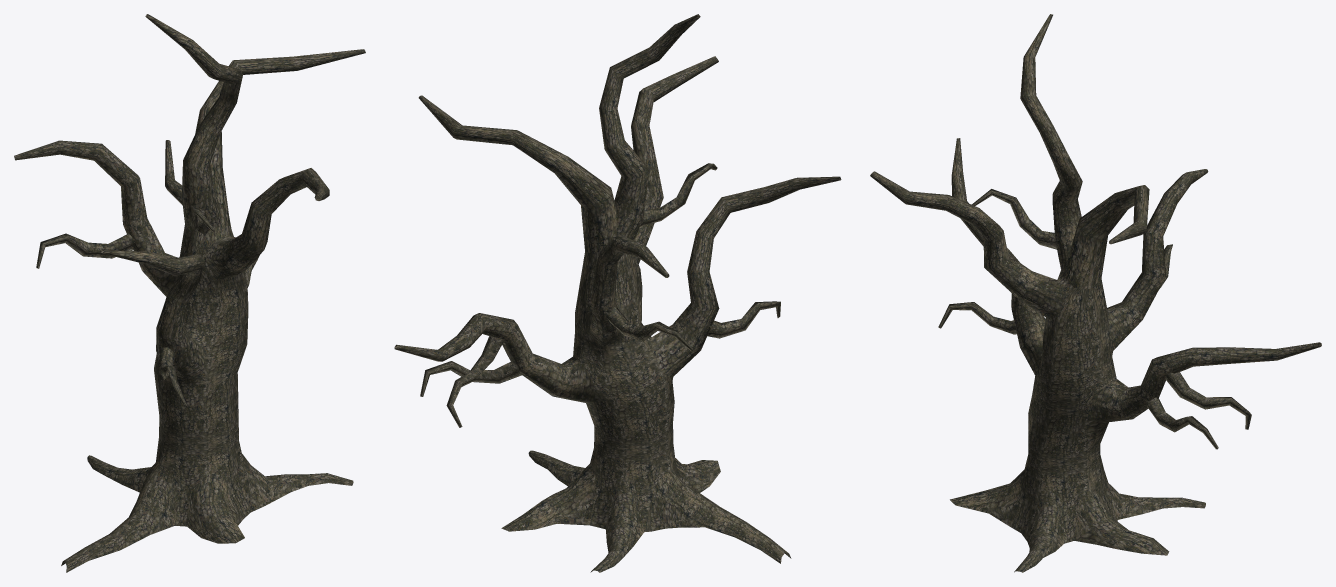
The model's file is EKH_ENTRANCE_PS_EN_TREE002__GX.fbx.
3 views of the same model, side by side, from view 1: azimuth 30°, elevation 25°; view 2: azimuth 150°, elevation 25°; view 3: azimuth 270°, elevation 25° (orthographic). The views are drawn at different scales.
Visible parts, largest first — view 1: EKH_ENTRANCE_PS_EN_TREE002__GX; view 2: EKH_ENTRANCE_PS_EN_TREE002__GX; view 3: EKH_ENTRANCE_PS_EN_TREE002__GX.
Boxes of the visible parts, left/top/right/bottom form: EKH_ENTRANCE_PS_EN_TREE002__GX: left=14, top=14, right=365, bottom=572; EKH_ENTRANCE_PS_EN_TREE002__GX: left=394, top=14, right=841, bottom=572; EKH_ENTRANCE_PS_EN_TREE002__GX: left=870, top=14, right=1321, bottom=572.
Bounding box in the file's own units: 213646 × 315222 × 256792.
Materials: 3 (3 with a texture image).
